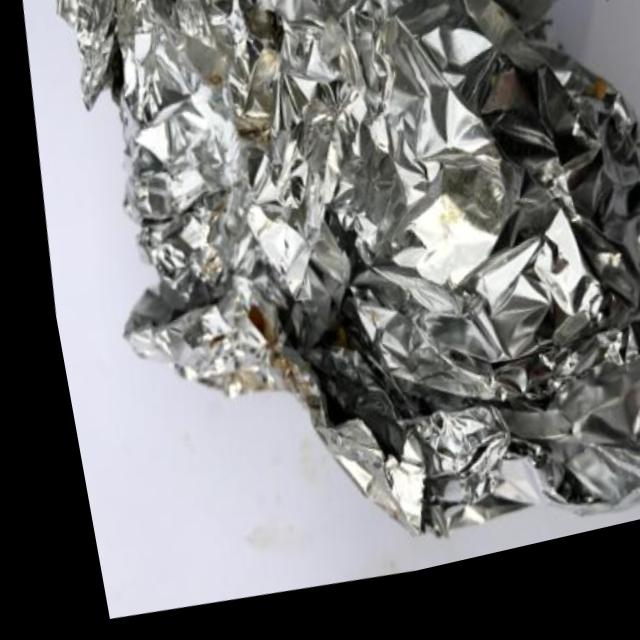metal: (19, 0, 640, 637)
